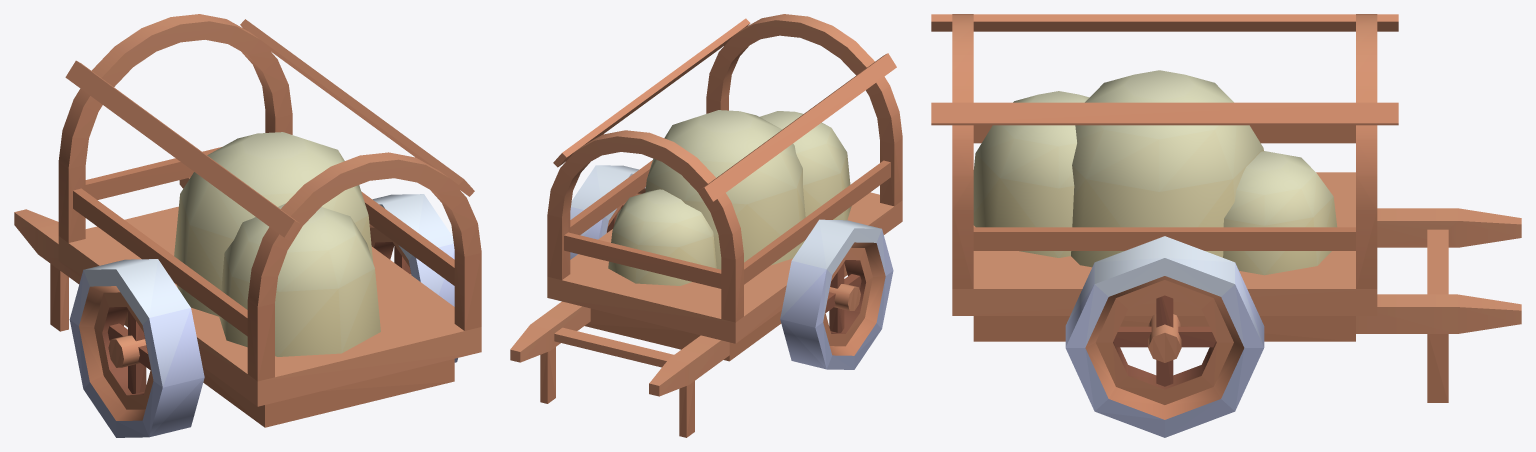
Rendered from kenney_town_cart_high.glb.
3 views of the same model, side by side, from view 1: azimuth 30°, elevation 25°; view 2: azimuth 150°, elevation 25°; view 3: azimuth 270°, elevation 25° (orthographic). The views are drawn at different scales.
Visible parts, largest first — view 1: wood, metal, cloth, stone; view 2: wood, metal, cloth, stone; view 3: wood, cloth, metal, stone.
Boxes of the visible parts, x1,y1,x2,y2 form: wood: [14, 14, 481, 427]; metal: [69, 243, 454, 436]; cloth: [83, 194, 453, 324]; stone: [79, 327, 457, 437]; wood: [510, 14, 902, 437]; metal: [570, 207, 893, 368]; cloth: [571, 165, 881, 274]; stone: [780, 277, 885, 369]; wood: [931, 14, 1521, 419]; cloth: [1094, 236, 1234, 296]; metal: [1065, 262, 1264, 410]; stone: [1085, 348, 1244, 437].
Size of the model in its own units: 0.893 by 0.8605 by 1.39.
